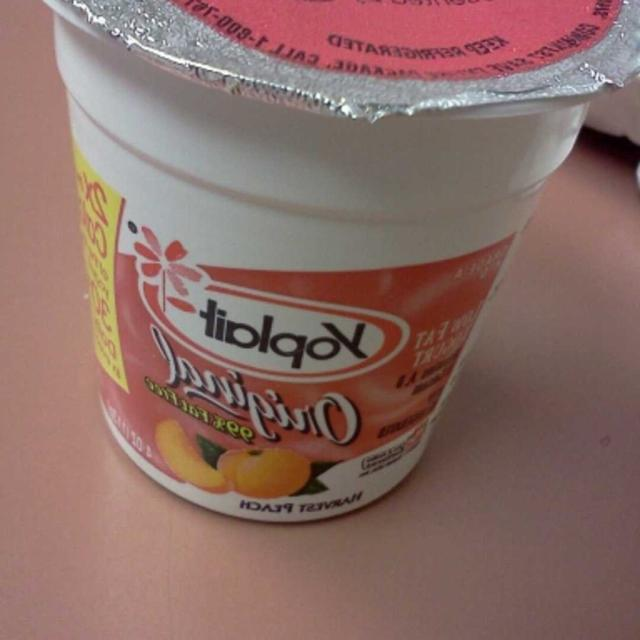plastic: (35, 0, 639, 521)
